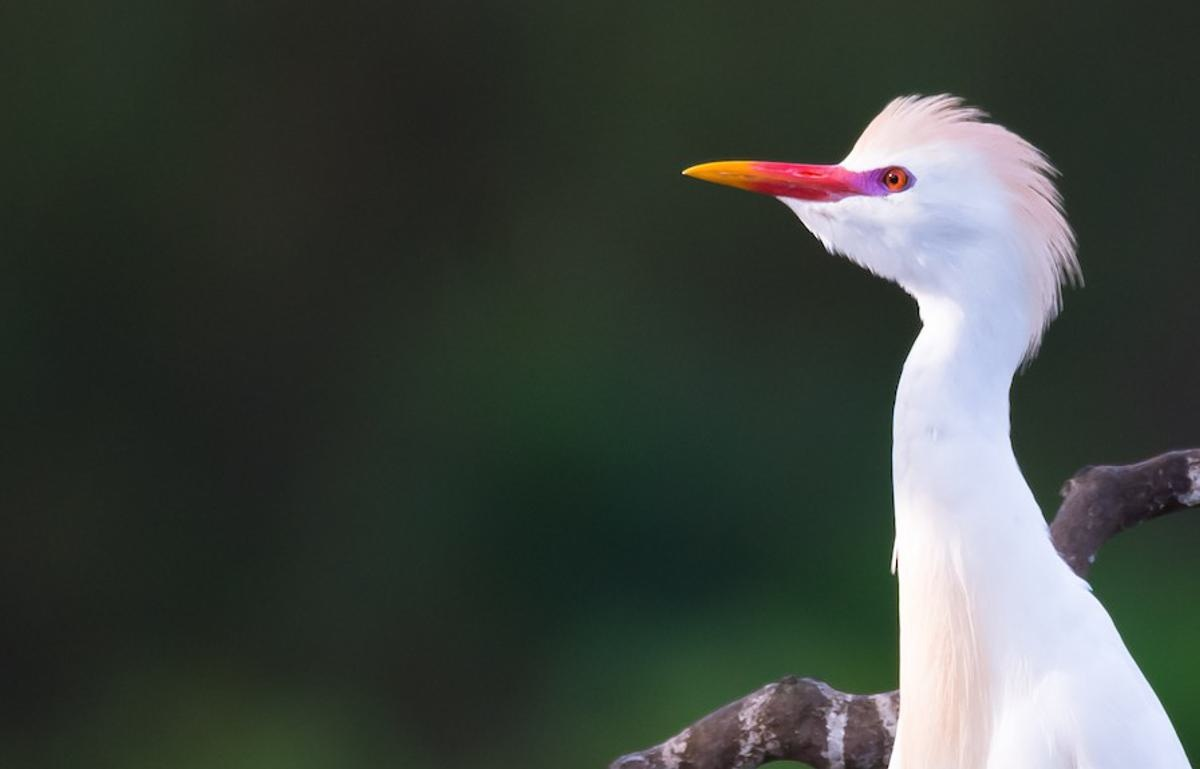egret: (675, 79, 1157, 769)
